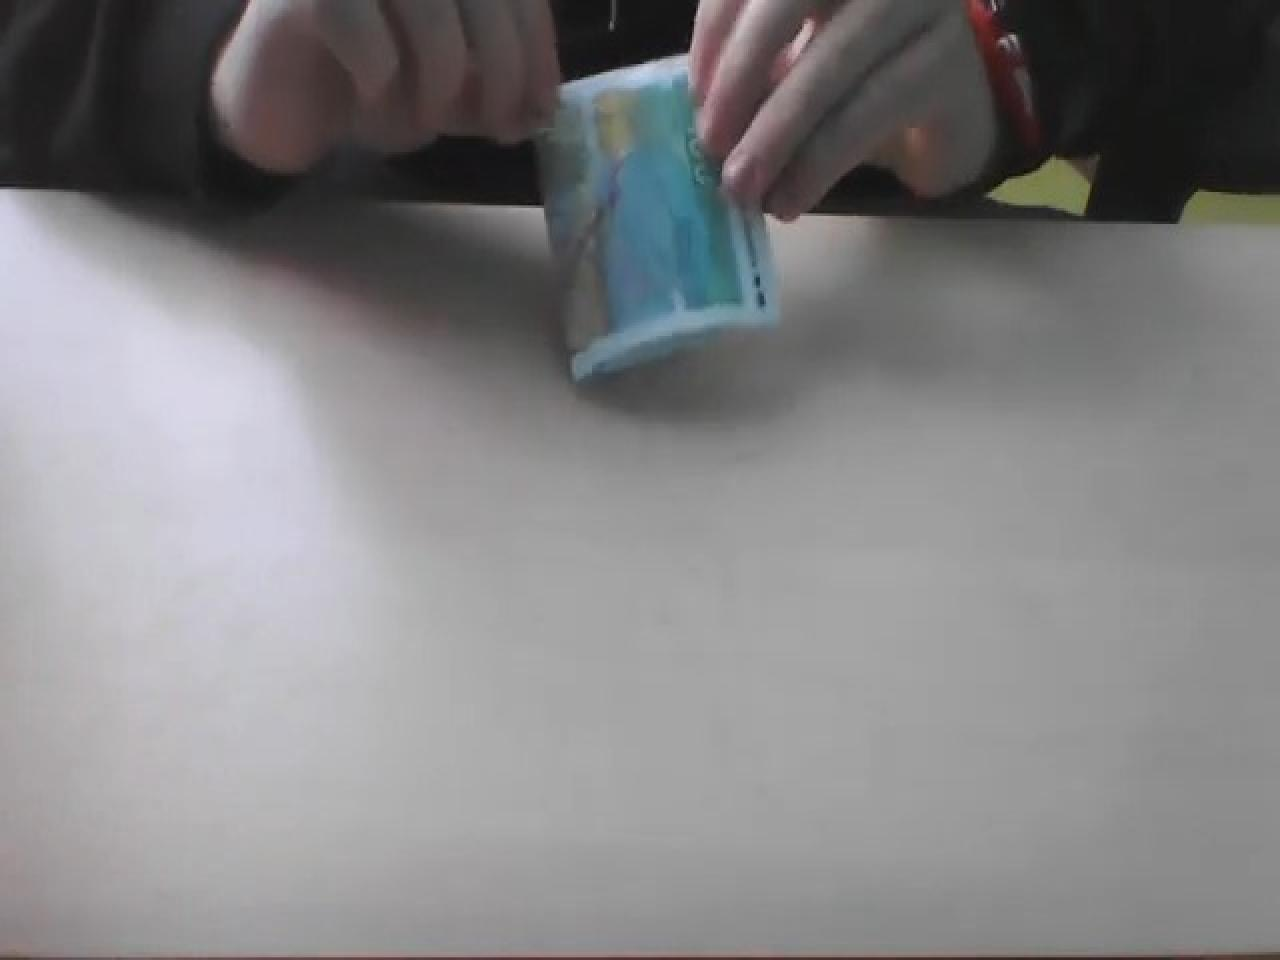100leva: (538, 56, 778, 381)
